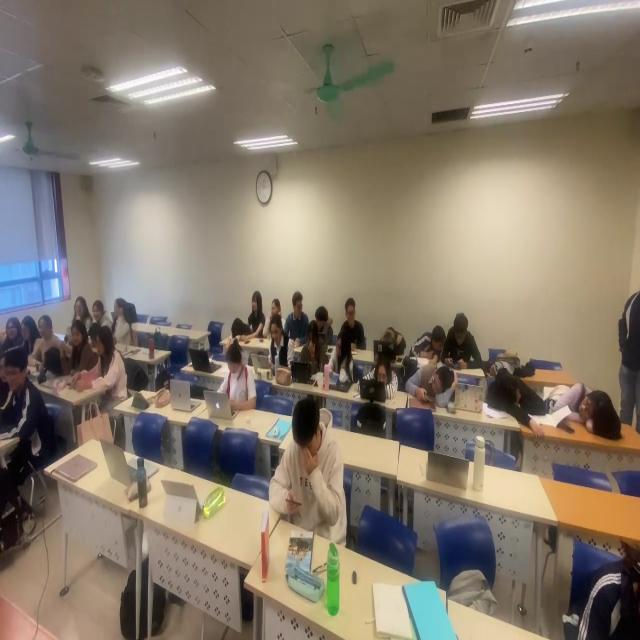raise_head: (342, 295, 364, 347), (247, 290, 268, 339), (20, 314, 40, 348), (4, 316, 23, 346), (91, 301, 110, 329), (74, 298, 91, 321)
sleep: (555, 364, 615, 444), (490, 369, 552, 439), (407, 356, 458, 412), (374, 321, 412, 361), (364, 358, 398, 402)
using_computer: (212, 349, 257, 417), (248, 321, 296, 381), (297, 321, 328, 387), (329, 329, 358, 396)
using_phone: (276, 400, 348, 531), (445, 314, 476, 373), (418, 358, 446, 403)
